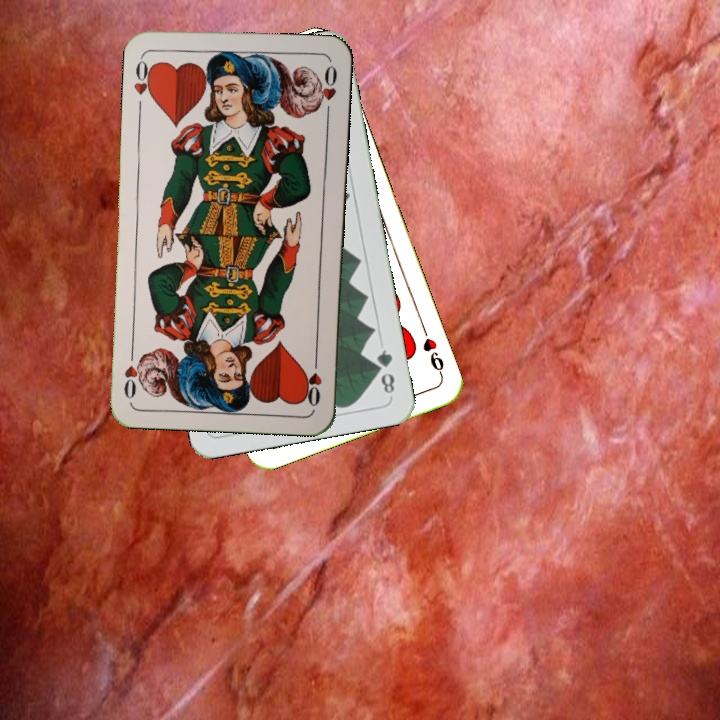G8: (372, 345, 397, 397)
H9: (418, 322, 447, 379)
HO: (129, 52, 157, 102), (302, 350, 324, 409)
